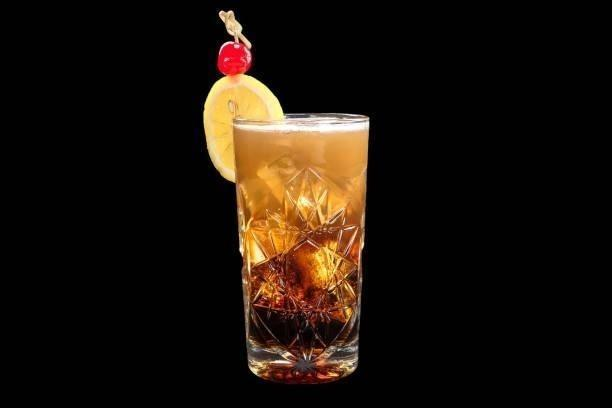glass-normal: (231, 110, 372, 385)
